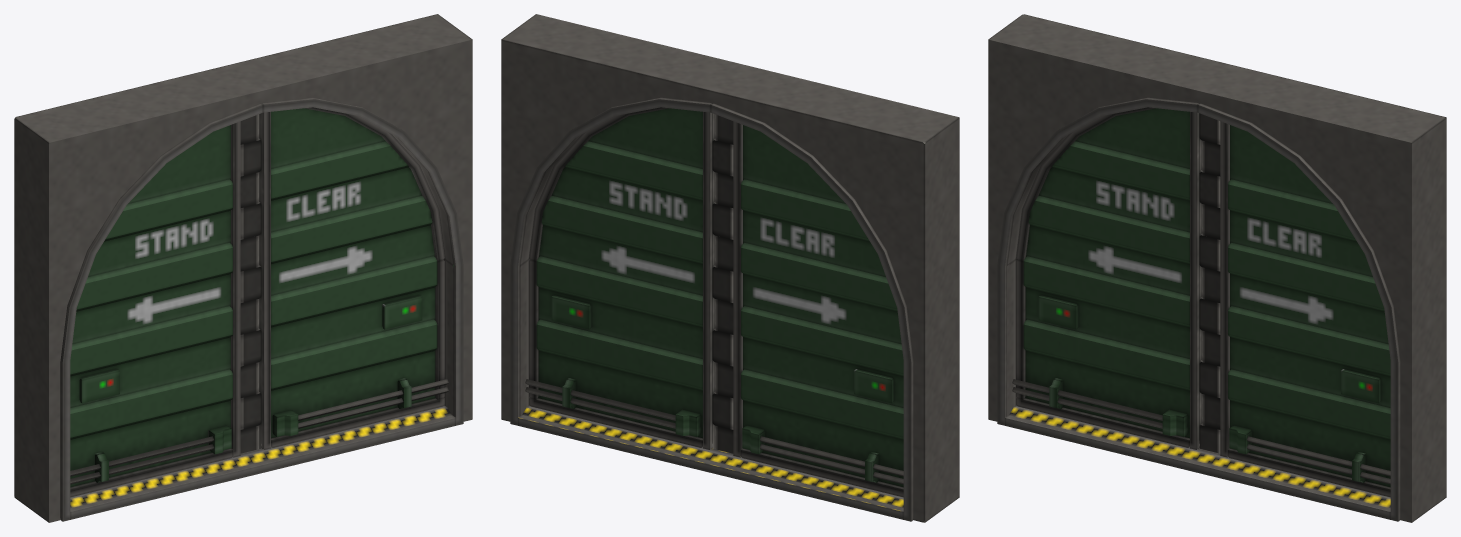
The model's file is vehicle_door.obj.
3 views of the same model, side by side, from view 1: azimuth 30°, elevation 25°; view 2: azimuth 150°, elevation 25°; view 3: azimuth 330°, elevation 25° (orthographic).
Visible parts, largest first — view 1: Frame, Right, Left; view 2: Frame, Right, Left; view 3: Frame, Left, Right.
Part boxes in pixels (<box>): Frame: <box>14,14,472,522</box>; Right: <box>240,107,453,449</box>; Left: <box>70,114,259,497</box>; Frame: <box>501,14,959,522</box>; Right: <box>525,107,733,449</box>; Left: <box>714,114,924,497</box>; Frame: <box>988,14,1446,522</box>; Left: <box>1012,107,1220,453</box>; Right: <box>1201,121,1390,497</box>.
Bounding box in the file's own units: 7 × 6 × 1.13.
1 material, 1 textured.
